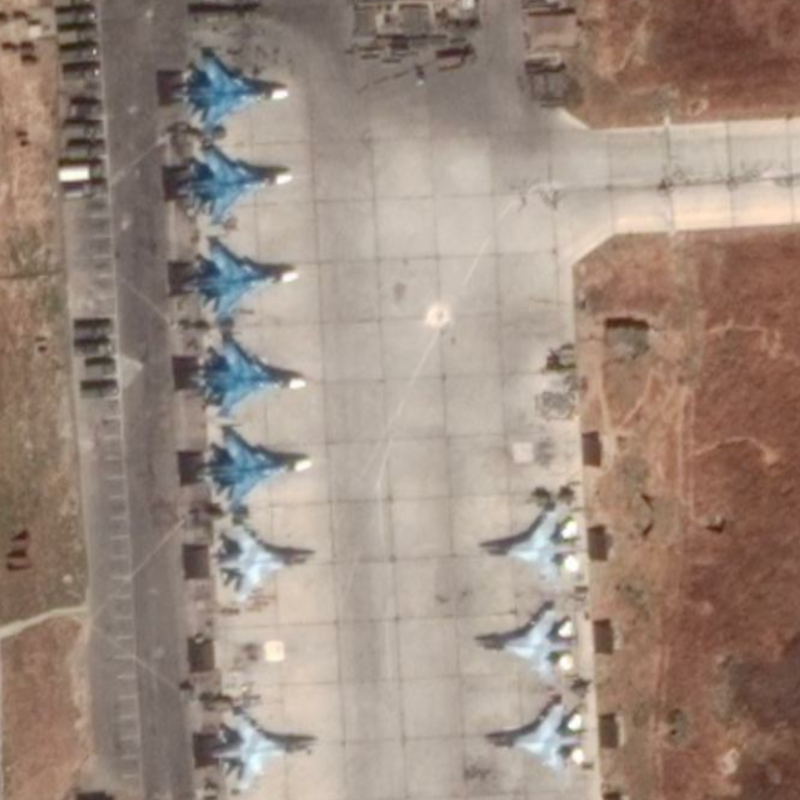A1: (210, 714, 316, 793), (483, 698, 587, 777), (484, 508, 585, 589), (476, 605, 578, 684), (214, 528, 310, 606)
A19: (194, 431, 314, 516), (187, 338, 309, 421), (175, 143, 295, 227), (173, 52, 290, 134), (180, 243, 302, 319)
